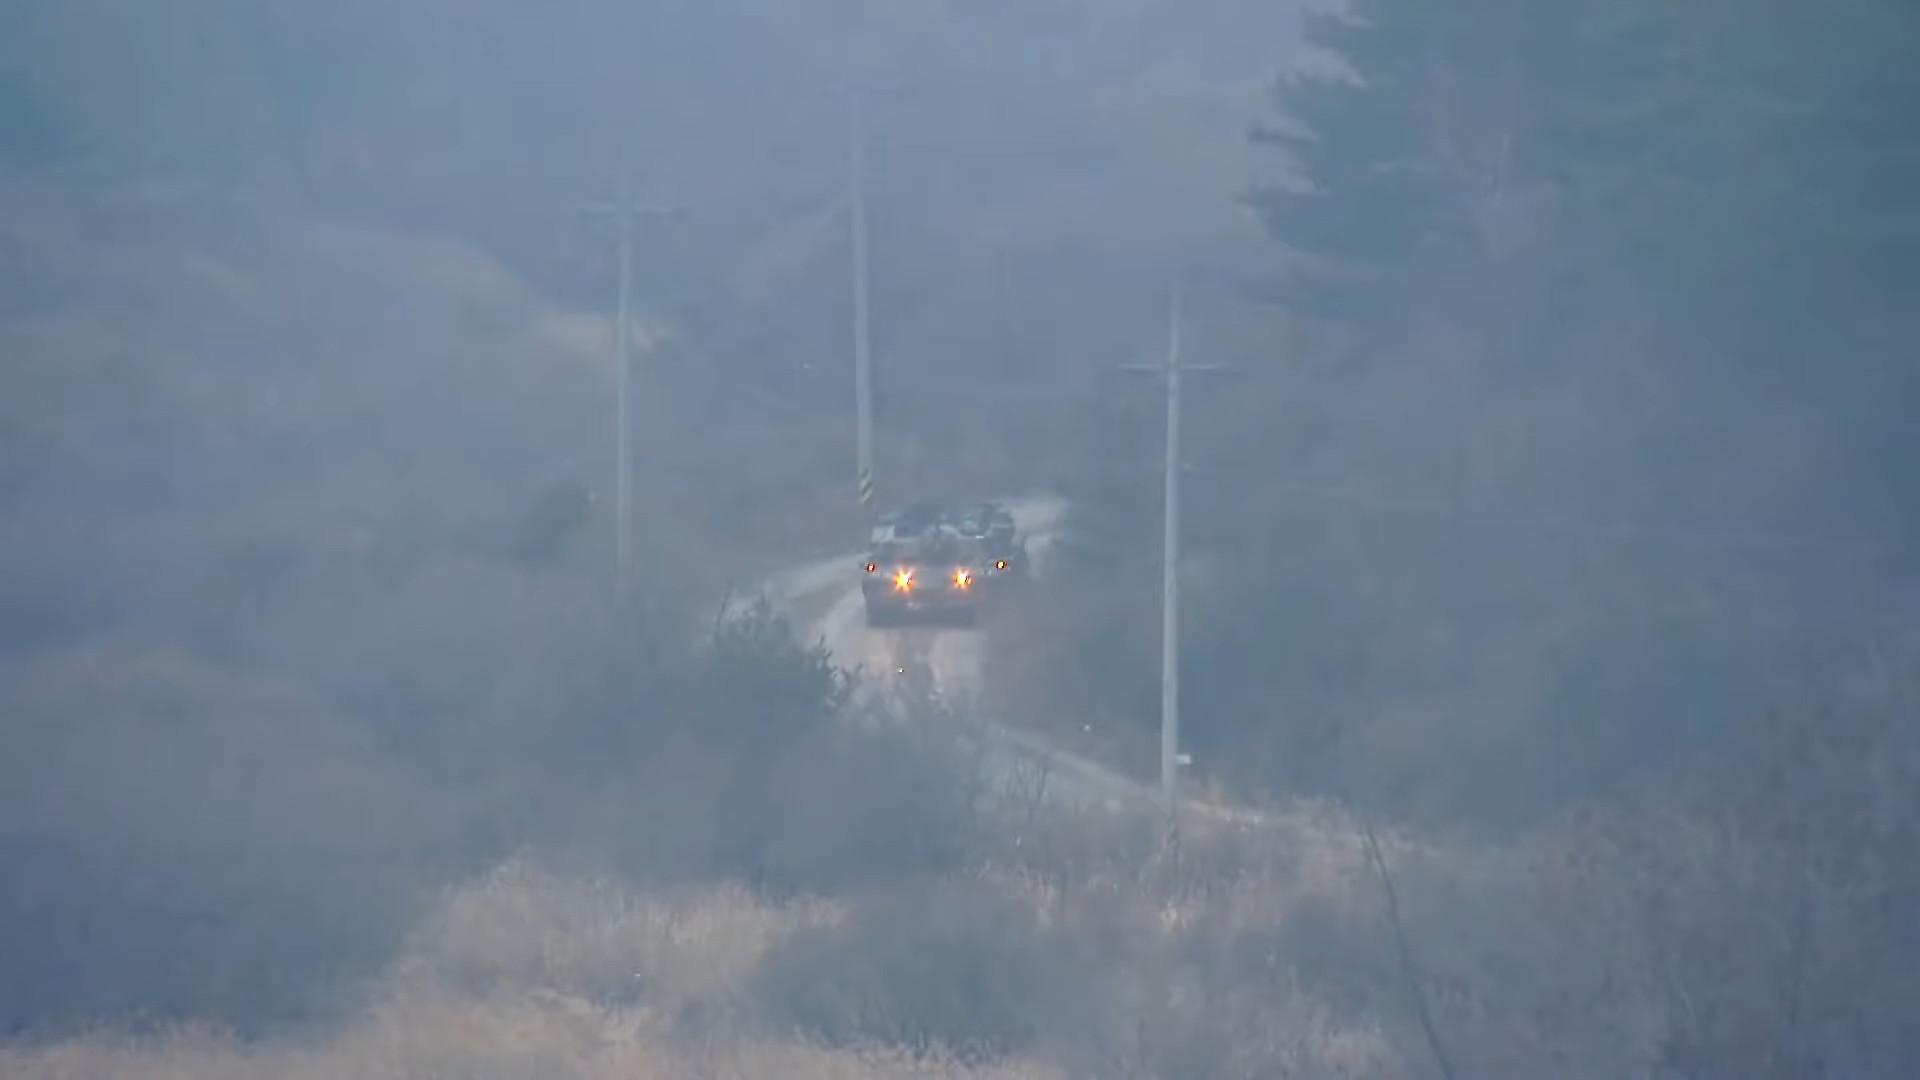tank: (861, 512, 1030, 626)
